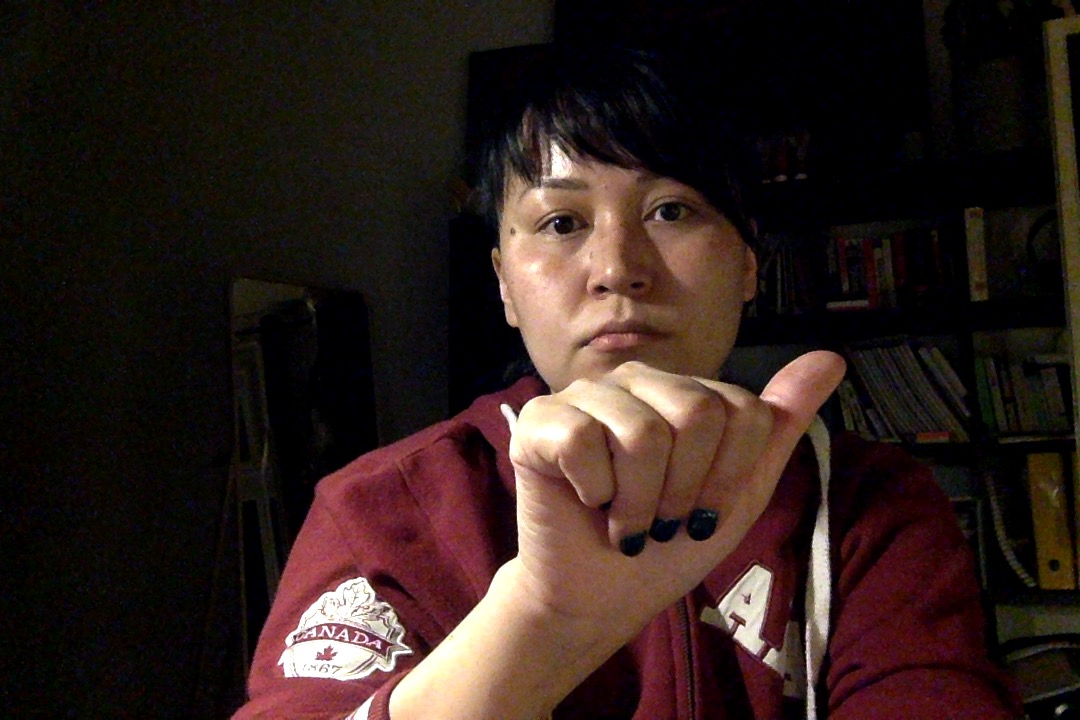a: (481, 331, 857, 650)
